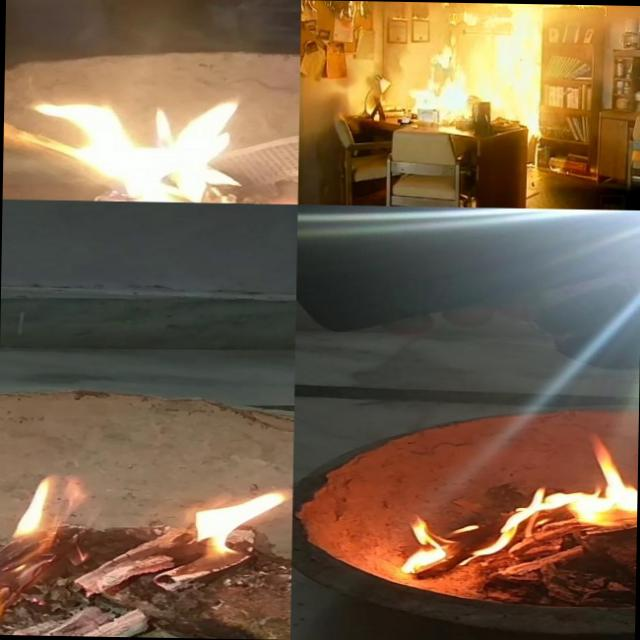fire: (388, 436, 638, 580), (46, 88, 300, 204), (400, 2, 618, 124), (0, 466, 110, 636), (177, 466, 293, 576), (301, 0, 370, 24)
